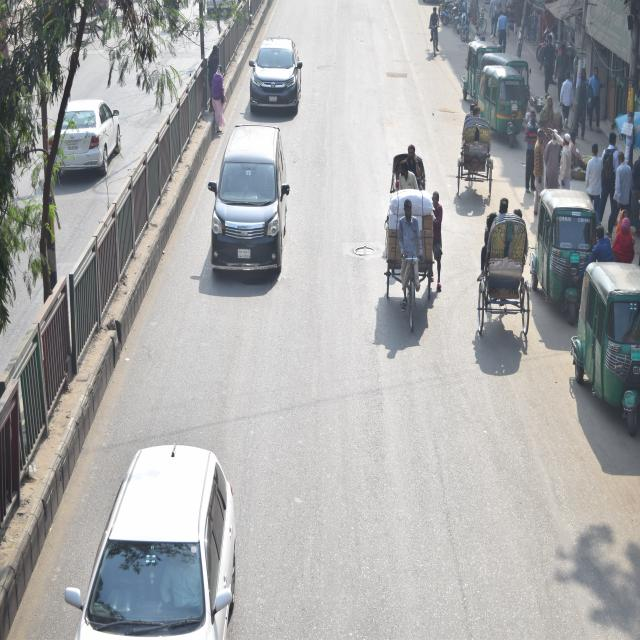car: (65, 441, 243, 640), (210, 117, 290, 272), (50, 90, 122, 172), (249, 31, 304, 111)
